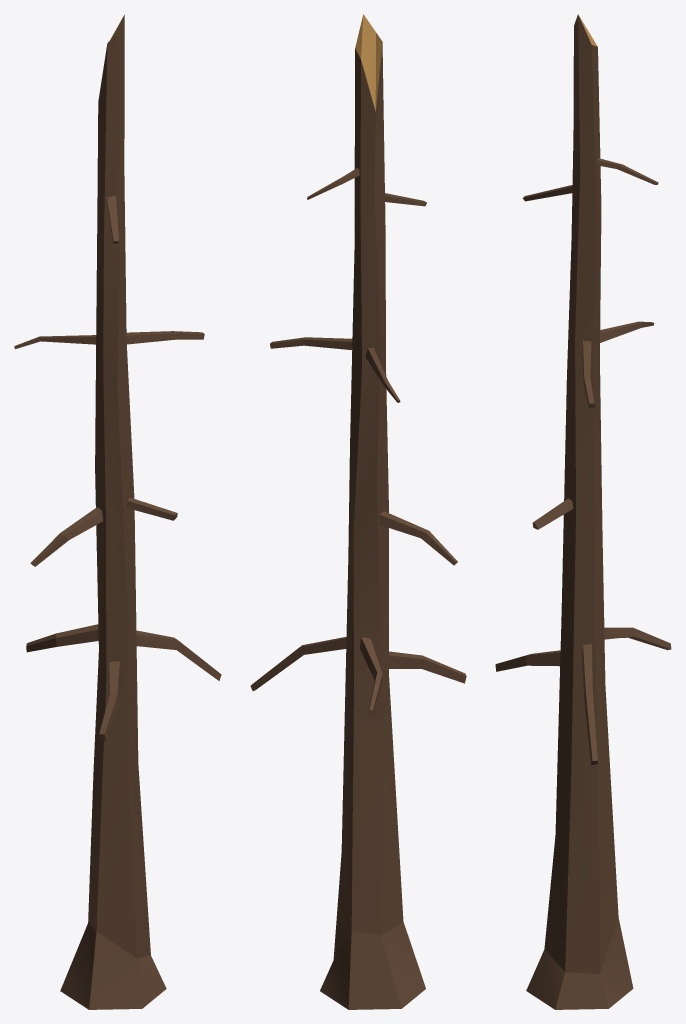
The model's file is FirBrokenB.fbx.
3 renders of one model, left to right at view 1: azimuth 30°, elevation 25°; view 2: azimuth 150°, elevation 25°; view 3: azimuth 270°, elevation 25°, orthographic.
Parts seen in each view (by area): view 1: FirBrokenB; view 2: FirBrokenB; view 3: FirBrokenB.
Boxes of the visible parts, left/top/right/bottom form: FirBrokenB: left=14, top=14, right=221, bottom=1009; FirBrokenB: left=250, top=14, right=466, bottom=1009; FirBrokenB: left=495, top=14, right=671, bottom=1009.
Size of the model in its own units: 371 by 1746 by 284.
